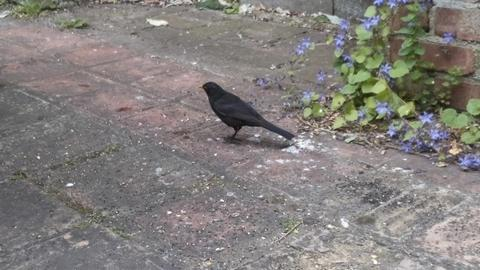blackbird: (197, 82, 295, 146)
